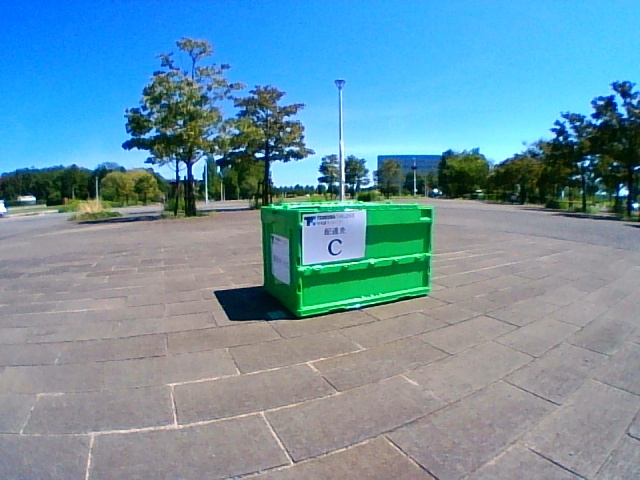green_box: (261, 199, 433, 315)
tag_c: (308, 214, 364, 259)
